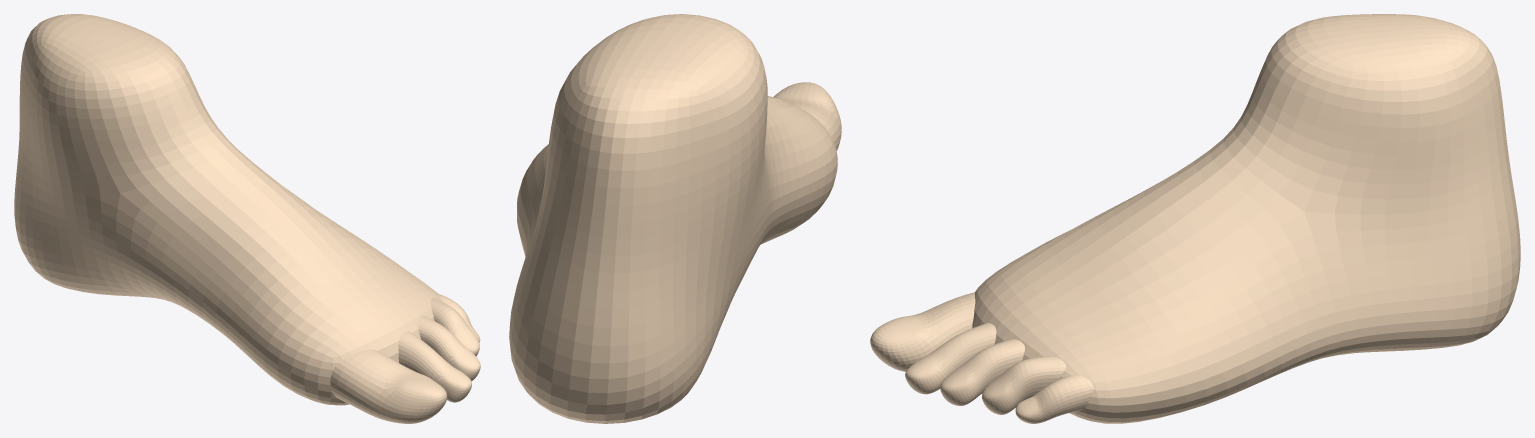
Rendered from LeftFoot.fbx.
3 renders of one model, left to right at view 1: azimuth 30°, elevation 25°; view 2: azimuth 150°, elevation 25°; view 3: azimuth 270°, elevation 25°, orthographic. The views are drawn at different scales.
Parts seen in each view (by area): view 1: LeftFoot; view 2: LeftFoot; view 3: LeftFoot.
Boxes of the visible parts, <box> form: LeftFoot: <box>14,14,480,423</box>; LeftFoot: <box>509,14,841,423</box>; LeftFoot: <box>870,14,1520,423</box>.
Bounding box in the file's own units: 0.1306 × 0.1178 × 0.2339.
